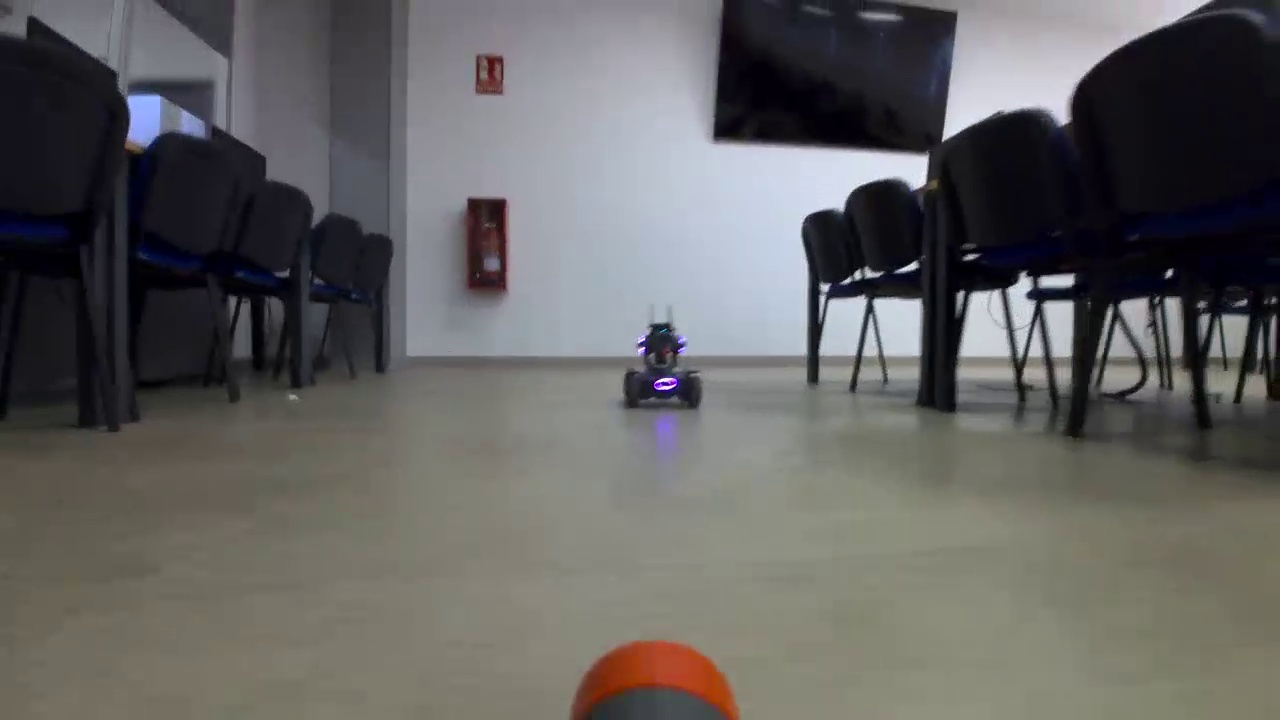robot: (622, 318, 700, 408)
